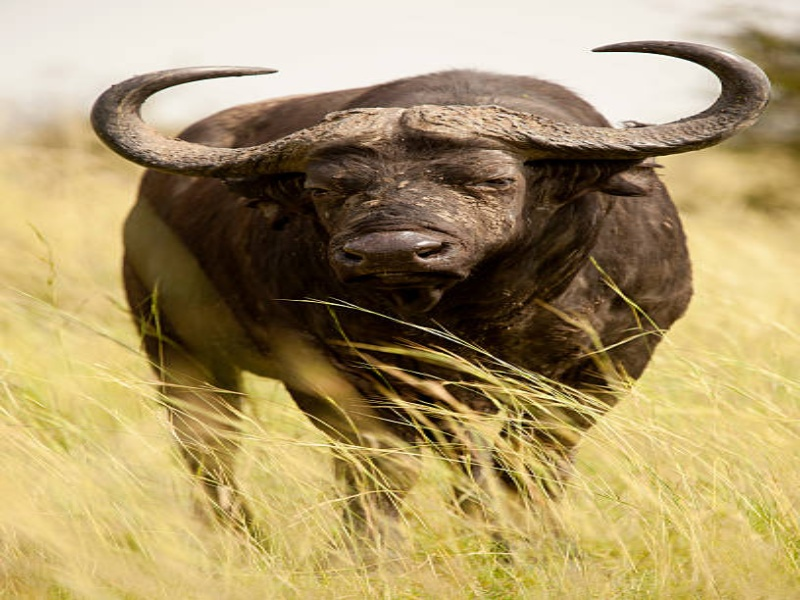buffalo: (80, 35, 781, 548)
